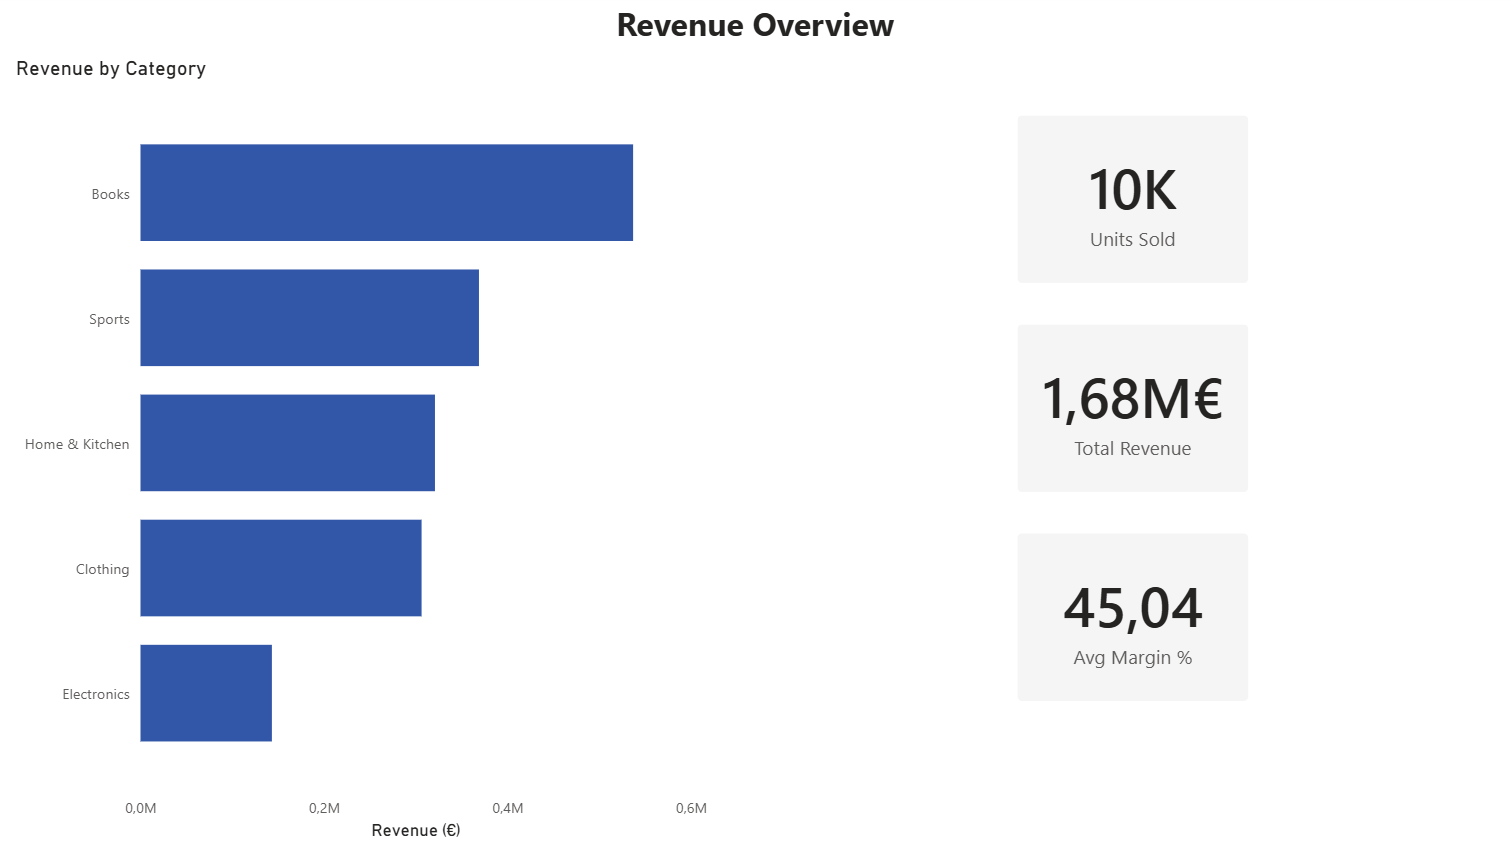

Layout of this report page (visuals, bound fields, positions):
{"tool":"powerbi","page":{"name":"Revenue interview","canvas":[1280,720],"ordinal":0},"visuals":[{"type":"clusteredBarChart","title":"Revenue by Category","fields":{"Category":["revenue_by_product.category"],"Y":["Sum(revenue_by_product.total_revenue)"]},"box":[17.8,50.6,588,659.2],"z":0},{"type":"cardVisual","fields":{"Data":["Sum(revenue_by_product.total_revenue)"]},"box":[842.1,257.9,227.9,174.4],"z":1000},{"type":"cardVisual","fields":{"Data":["Sum(revenue_by_product.units_sold)"]},"box":[842.1,83.5,227.9,174.4],"z":2000},{"type":"cardVisual","fields":{"Data":["Avg(revenue_by_product.margin_pct)"]},"box":[842.1,432.3,227.9,174.4],"z":3000},{"type":"textbox","box":[0,0,1280,50.6],"z":4000}]}

Visuals, with their boxes in screenshot pixels (x1, y1, x2, y2), scaled from the page's 1280x720 canvas onto the 1511x850 screenshot:
"Revenue by Category" clusteredBarChart: 21:60:715:838
cardVisual - Sum(revenue_by_product.total_revenue): 994:304:1263:510
cardVisual - Sum(revenue_by_product.units_sold): 994:99:1263:304
cardVisual - Avg(revenue_by_product.margin_pct): 994:510:1263:716
textbox: 0:0:1510:60
